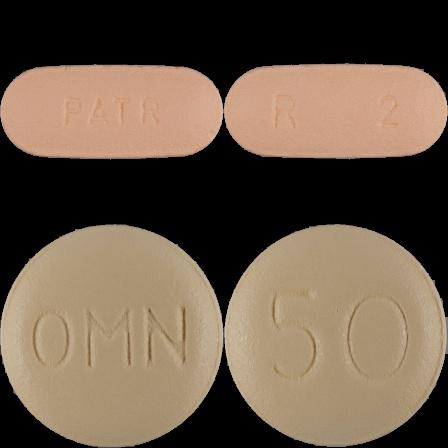50458-593: (0, 0, 224, 224)
